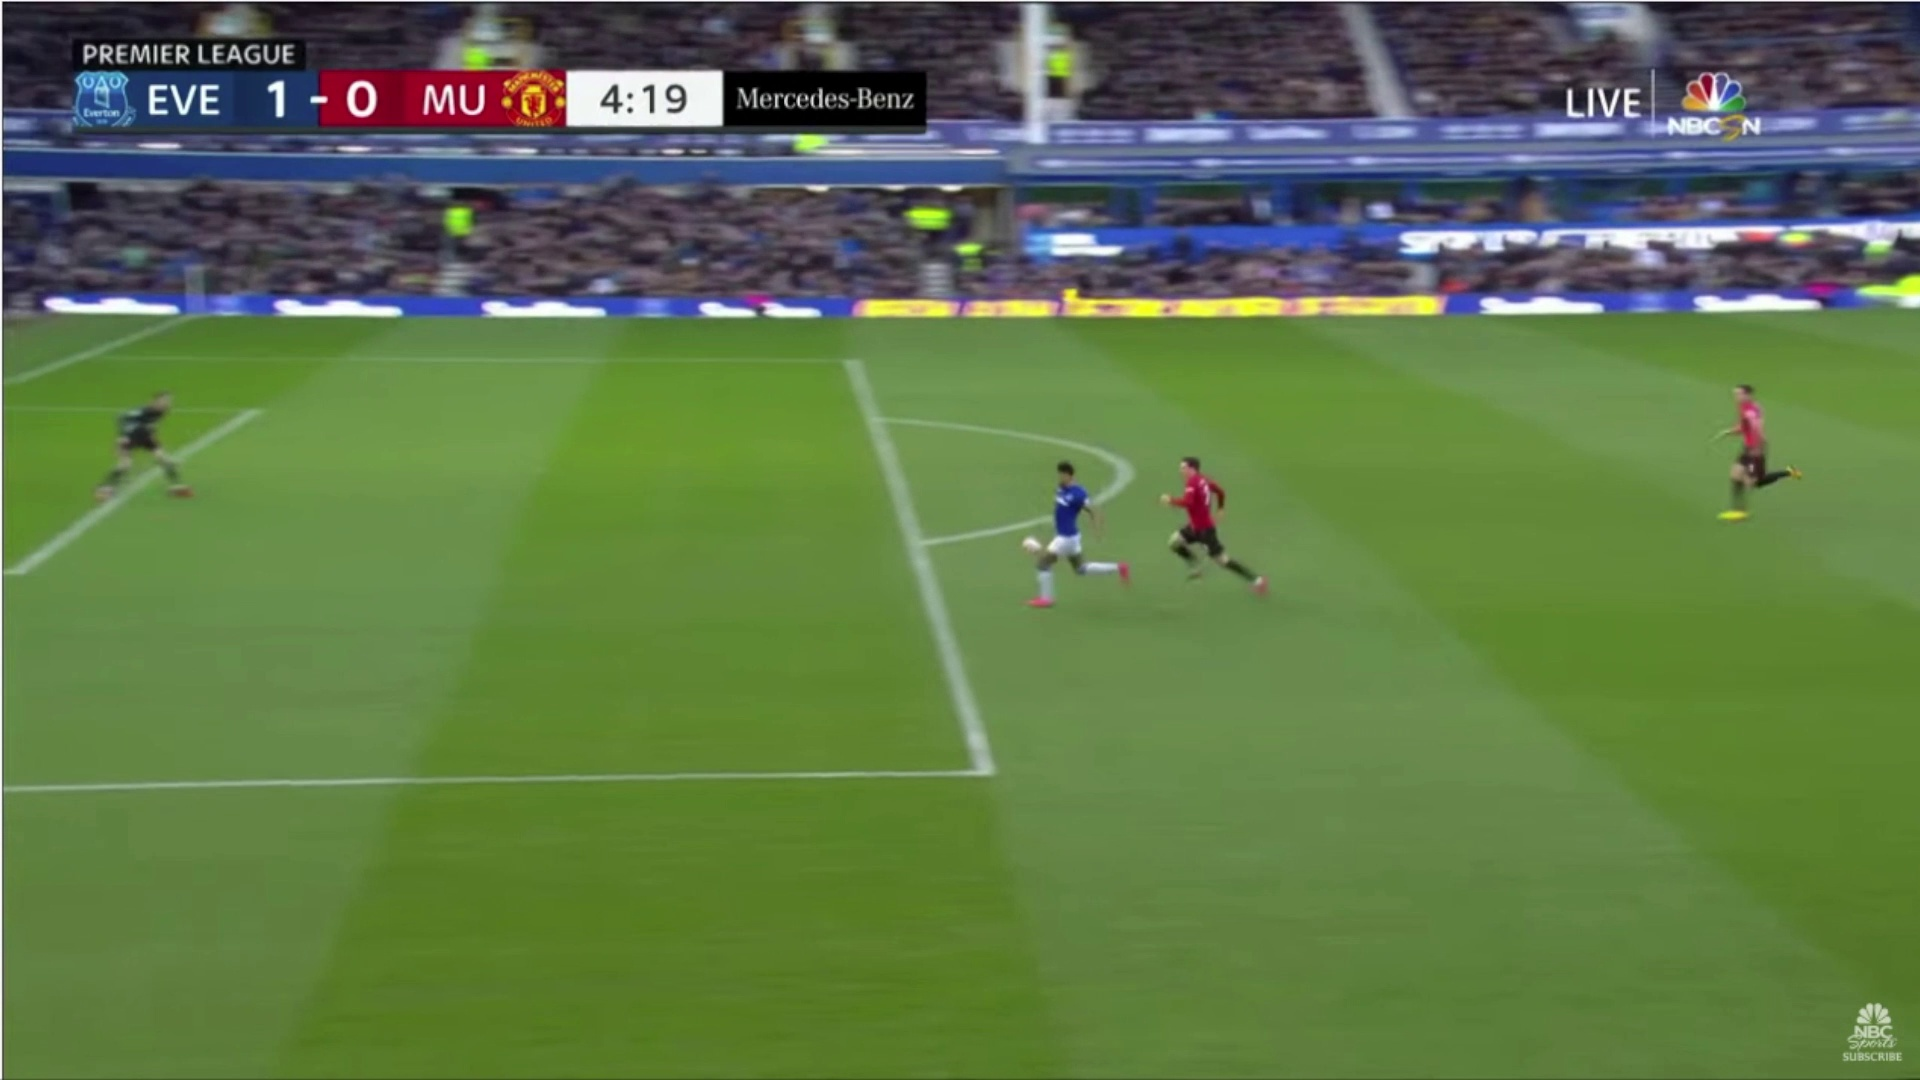ball: (1014, 531, 1045, 558)
player: (1697, 362, 1818, 540), (1154, 452, 1277, 606), (1037, 440, 1141, 619), (83, 373, 195, 517)
